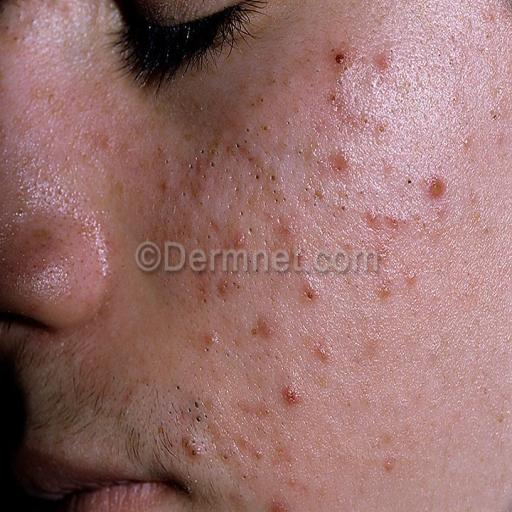Skin_Lesion: (183, 142, 221, 174), (421, 173, 449, 206), (188, 394, 212, 430), (232, 132, 258, 162), (180, 428, 204, 459), (365, 115, 392, 142), (194, 266, 210, 311), (257, 163, 282, 190), (328, 154, 350, 182), (240, 434, 262, 461), (330, 43, 348, 75), (364, 199, 380, 232), (319, 88, 343, 110), (389, 207, 408, 234), (279, 384, 301, 407), (314, 337, 332, 365), (374, 281, 394, 306), (301, 282, 320, 308), (273, 214, 292, 240), (311, 182, 328, 211), (229, 231, 251, 253), (217, 271, 232, 303), (374, 50, 393, 75), (372, 243, 390, 269), (251, 315, 269, 340), (99, 131, 118, 154), (174, 216, 189, 245), (204, 328, 222, 350), (402, 269, 420, 288), (291, 248, 308, 268), (278, 442, 292, 466), (269, 494, 287, 512), (250, 91, 266, 111), (188, 178, 204, 197), (382, 455, 396, 476), (159, 176, 172, 198), (257, 119, 272, 137), (286, 473, 298, 492), (232, 182, 242, 202)
